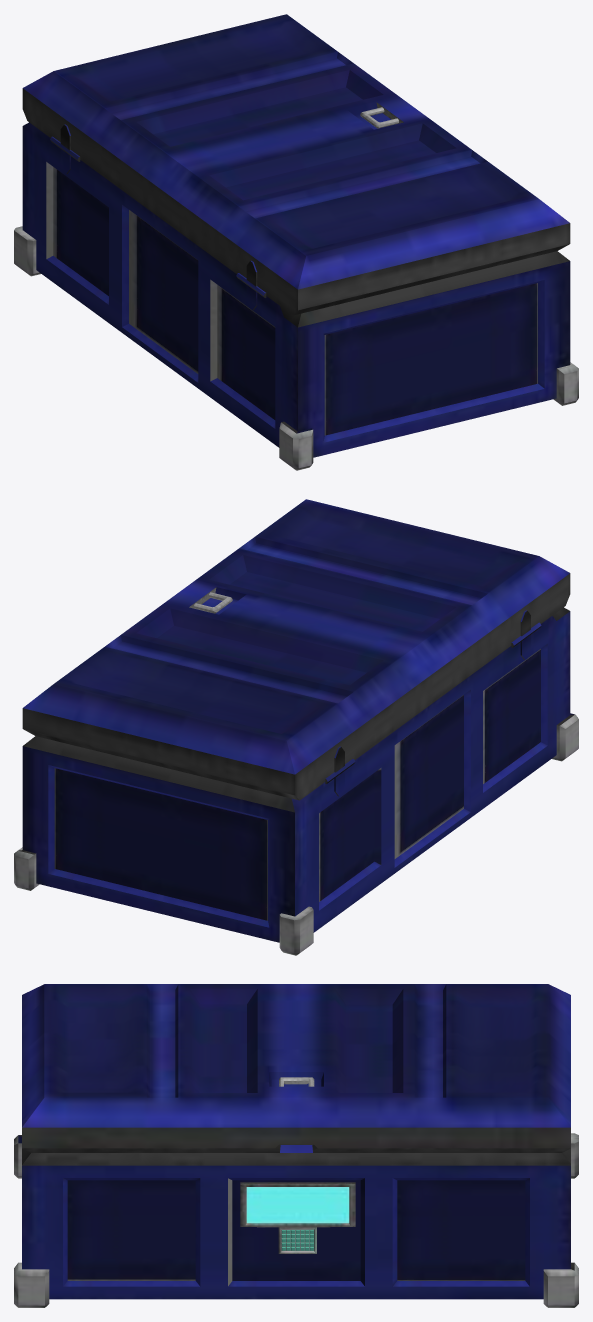
File: Blue Chest Closed.fbx
3 views of the same model, one above another, from view 1: azimuth 30°, elevation 25°; view 2: azimuth 150°, elevation 25°; view 3: azimuth 270°, elevation 25° (orthographic).
Visible parts, largest first — view 1: Top_Chest, Interactable_Screen; view 2: Top_Chest, Interactable_Screen; view 3: Top_Chest, Interactable_Screen.
Part boxes in pixels (<box>): Top_Chest: <box>22,14,570,315</box>; Interactable_Screen: <box>14,122,578,470</box>; Top_Chest: <box>22,499,570,800</box>; Interactable_Screen: <box>14,607,578,955</box>; Top_Chest: <box>22,984,570,1152</box>; Interactable_Screen: <box>14,1133,578,1307</box>.
Size of the model in its own units: 105 by 70 by 180.
1 material, 1 textured.
